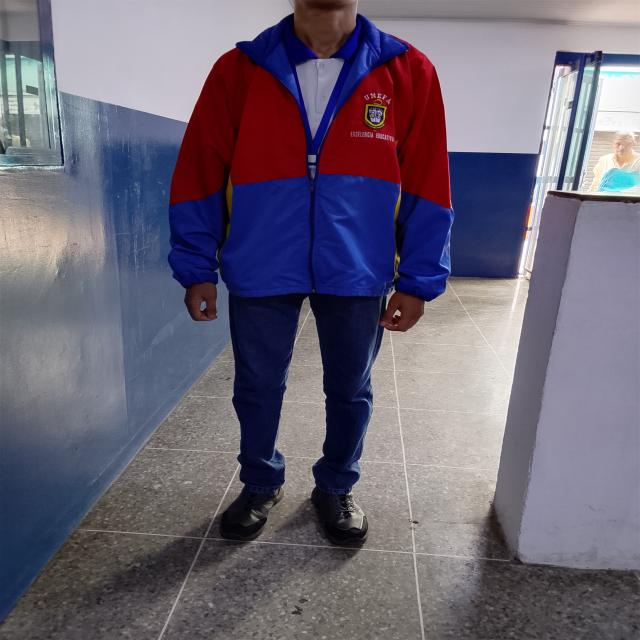chaqueta_unefa: (167, 12, 455, 301)
